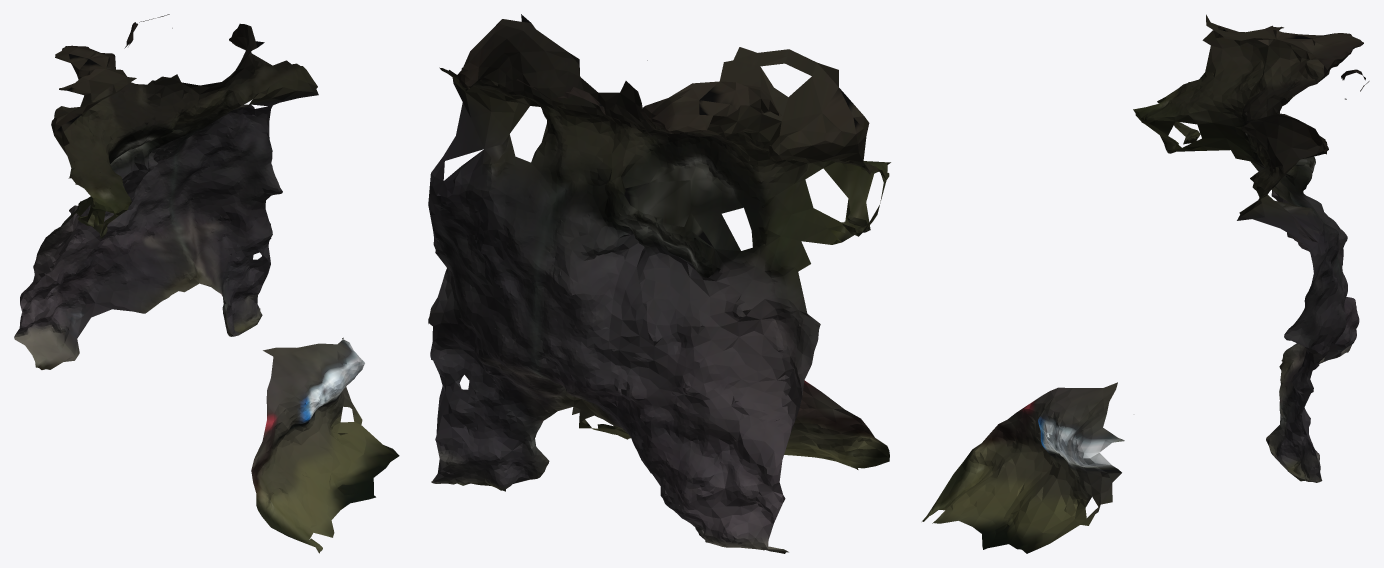
File: texturedMesh.obj
The picture shows the model from 3 angles, left to right: view 1: azimuth 30°, elevation 25°; view 2: azimuth 150°, elevation 25°; view 3: azimuth 270°, elevation 25°; orthographic projection. The views are drawn at different scales.
Visible parts, largest first — view 1: TexturedMesh; view 2: TexturedMesh; view 3: TexturedMesh.
Boxes of the visible parts, box(x1,y1,x2,y2) form: TexturedMesh: box(14, 14, 399, 553); TexturedMesh: box(428, 14, 890, 553); TexturedMesh: box(922, 14, 1369, 553).
Bounding box in the file's own units: 1.28 × 1.81 × 1.61.
1 material, 1 textured.
